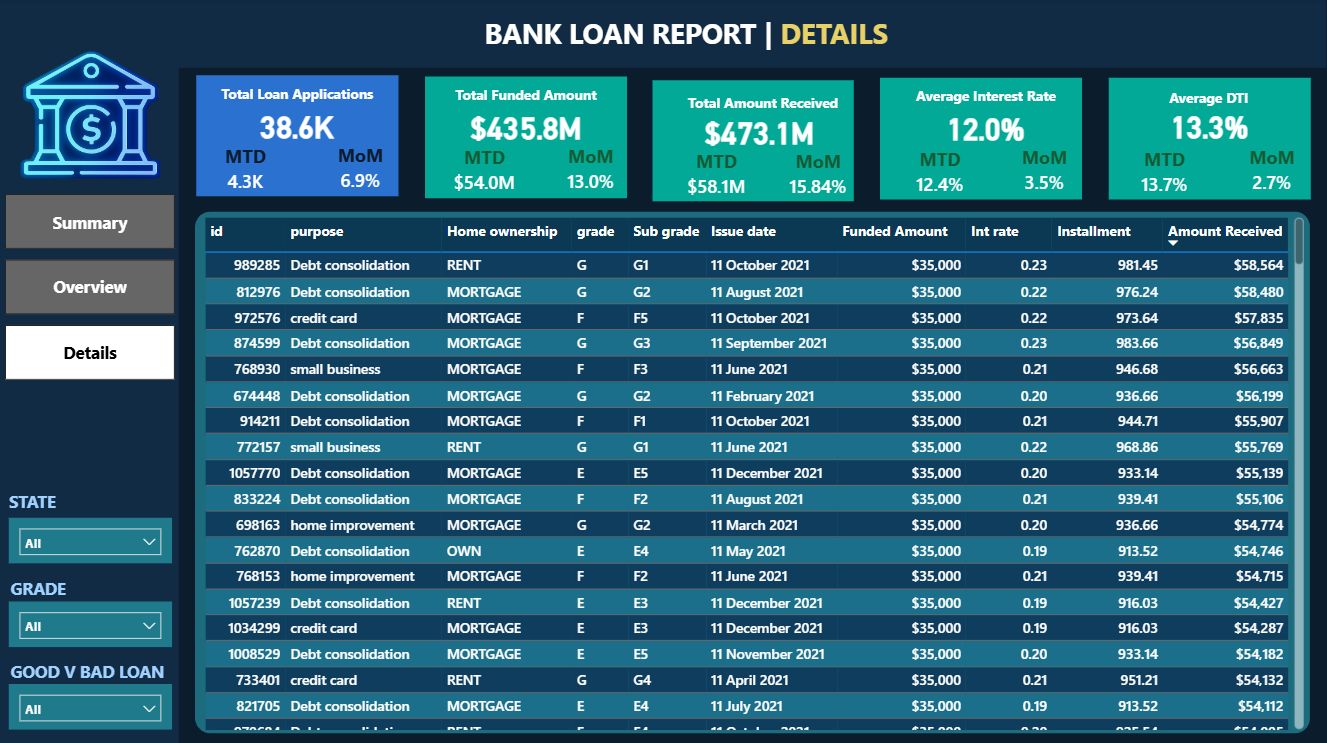

Layout of this report page (visuals, bound fields, positions):
{"tool":"powerbi","page":{"name":"Details","canvas":[1280,720],"ordinal":2},"visuals":[{"type":"shape","box":[0,0,172.5,720.2],"z":0},{"type":"shape","box":[188.8,205,1076.2,503.8],"z":1000},{"type":"shape","box":[410,74.8,195,117.5],"z":2000},{"type":"textbox","box":[410,78.8,195,38.8],"z":3000},{"type":"shape","box":[0,0,1280,66.4],"z":4000},{"type":"textbox","box":[437.9,9.7,448.8,45.8],"z":5000},{"type":"card","fields":{"Values":["Bank_Loan_Data.Total funded Amount"]},"box":[425,103.8,166.2,40],"z":6000},{"type":"card","title":"MTD","fields":{"Values":["Bank_Loan_Data.MTD Funded Amount"]},"box":[428.8,141.2,78.8,53.8],"z":7000},{"type":"card","title":"MoM","fields":{"Values":["Bank_Loan_Data.MoM Total Funded Amount"]},"box":[535,140,71.2,53.8],"z":8000},{"type":"shape","box":[189.4,73.8,195.4,117],"z":9000},{"type":"textbox","box":[189.7,77.6,195,38.8],"z":10000},{"type":"card","fields":{"Values":["Bank_Loan_Data.Total loan applications"]},"box":[202.9,103,167.7,39.8],"z":11000},{"type":"card","title":"MTD","fields":{"Values":["Bank_Loan_Data.MTD Loan Applicatons"]},"box":[207.4,140.1,58.8,53.8],"z":12000},{"type":"card","title":"MoM","fields":{"Values":["Bank_Loan_Data.MoM Loan Applications"]},"box":[318.8,138.8,58.8,53.8],"z":13000},{"type":"shape","box":[630.1,78.9,194.2,117],"z":14000},{"type":"textbox","box":[655.3,85.4,162.9,38.6],"z":15000},{"type":"card","fields":{"Values":["Bank_Loan_Data.Total Amount Received"]},"box":[649.3,109.5,167.7,37.4],"z":16000},{"type":"card","title":"MTD","fields":{"Values":["Bank_Loan_Data.MTD Total Amount Received"]},"box":[651.2,145,80,53.8],"z":17000},{"type":"card","title":"MoM","fields":{"Values":["Bank_Loan_Data.MoM Total Amount Received"]},"box":[753.8,145,71.2,53.8],"z":18000},{"type":"shape","box":[849.4,76.2,195,117.5],"z":19000},{"type":"textbox","box":[854,79.9,195,38.8],"z":20000},{"type":"card","fields":{"Values":["Bank_Loan_Data.Average Interset Rate"]},"box":[867.9,104.7,167.7,38.6],"z":21000},{"type":"card","title":"MTD","fields":{"Values":["Bank_Loan_Data.MTD Average Interset Rate"]},"box":[867.9,142.1,79.6,54.3],"z":22000},{"type":"card","title":"MoM","fields":{"Values":["Bank_Loan_Data.MoM Average Interest Rate"]},"box":[972.5,141.2,71.2,53.8],"z":23000},{"type":"shape","box":[1069.5,76.2,195,117.5],"z":24000},{"type":"textbox","box":[1070.6,80.6,193,27.7],"z":25000},{"type":"card","fields":{"Values":["Bank_Loan_Data.Average DTI"]},"box":[1083.9,101.1,167.7,42.2],"z":26000},{"type":"card","title":"MTD","fields":{"Values":["Bank_Loan_Data.MTD Average DTI"]},"box":[1085,142.4,78.8,53.8],"z":27000},{"type":"card","title":"MoM","fields":{"Values":["Bank_Loan_Data.MoM Average DTI"]},"box":[1192.5,141.2,71.2,53.8],"z":28000},{"type":"slicer","fields":{"Values":["Bank_Loan_Data.address_state"]},"box":[7.9,500.4,157.5,43.8],"z":29000},{"type":"textbox","box":[0.4,469.1,62.5,31.2],"z":30000},{"type":"slicer","fields":{"Values":["Bank_Loan_Data.grade"]},"box":[7.9,581.6,157.5,43.8],"z":31000},{"type":"slicer","fields":{"Values":["Bank_Loan_Data.Good vs Bad Loan "]},"box":[7.9,661.7,157.5,43.8],"z":32000},{"type":"textbox","box":[0.4,552.9,73.8,31.2],"z":33000},{"type":"textbox","box":[4.2,633.9,161.2,31.2],"z":34000},{"type":"tableEx","fields":{"Values":["Bank_Loan_Data.id","Bank_Loan_Data.purpose","Bank_Loan_Data.home_ownership","Bank_Loan_Data.grade","Bank_Loan_Data.sub_grade","Bank_Loan_Data.issue_date","Bank_Loan_Data.Total funded Amount","Sum(Bank_Loan_Data.int_rate)","Sum(Bank_Loan_Data.installment)","Bank_Loan_Data.Total Amount Received"]},"box":[191.2,206.2,1071.2,503.8],"z":35000},{"type":"image","box":[14.3,22.9,150,182.9],"z":36000},{"type":"pageNavigator","box":[4.3,188.6,164.3,181.4],"z":37000}]}

Visuals, with their boxes in screenshot pixels (x1, y1, x2, y2), scaled from the page's 1280x720 canvas onto the 1327x743 screenshot:
shape: Rect(0, 0, 179, 742)
shape: Rect(196, 212, 1311, 731)
shape: Rect(425, 77, 627, 198)
textbox: Rect(425, 81, 627, 121)
shape: Rect(0, 0, 1326, 69)
textbox: Rect(454, 10, 919, 57)
card - Bank_Loan_Data.Total funded Amount: Rect(441, 107, 613, 148)
"MTD" card: Rect(445, 146, 526, 201)
"MoM" card: Rect(555, 144, 628, 200)
shape: Rect(196, 76, 399, 197)
textbox: Rect(197, 80, 399, 120)
card - Bank_Loan_Data.Total loan applications: Rect(210, 106, 384, 147)
"MTD" card: Rect(215, 145, 276, 200)
"MoM" card: Rect(331, 143, 391, 199)
shape: Rect(653, 81, 855, 202)
textbox: Rect(679, 88, 848, 128)
card - Bank_Loan_Data.Total Amount Received: Rect(673, 113, 847, 152)
"MTD" card: Rect(675, 150, 758, 205)
"MoM" card: Rect(781, 150, 855, 205)
shape: Rect(881, 79, 1083, 200)
textbox: Rect(885, 82, 1088, 122)
card - Bank_Loan_Data.Average Interset Rate: Rect(900, 108, 1074, 148)
"MTD" card: Rect(900, 147, 982, 203)
"MoM" card: Rect(1008, 146, 1082, 201)
shape: Rect(1109, 79, 1311, 200)
textbox: Rect(1110, 83, 1310, 112)
card - Bank_Loan_Data.Average DTI: Rect(1124, 104, 1298, 148)
"MTD" card: Rect(1125, 147, 1207, 202)
"MoM" card: Rect(1236, 146, 1310, 201)
slicer - Bank_Loan_Data.address_state: Rect(8, 516, 171, 562)
textbox: Rect(0, 484, 65, 516)
slicer - Bank_Loan_Data.grade: Rect(8, 600, 171, 645)
slicer - Bank_Loan_Data.Good vs Bad Loan : Rect(8, 683, 171, 728)
textbox: Rect(0, 571, 77, 603)
textbox: Rect(4, 654, 171, 686)
tableEx - Bank_Loan_Data.id x Bank_Loan_Data.purpose: Rect(198, 213, 1309, 733)
image: Rect(15, 24, 170, 212)
pageNavigator: Rect(4, 195, 175, 382)
